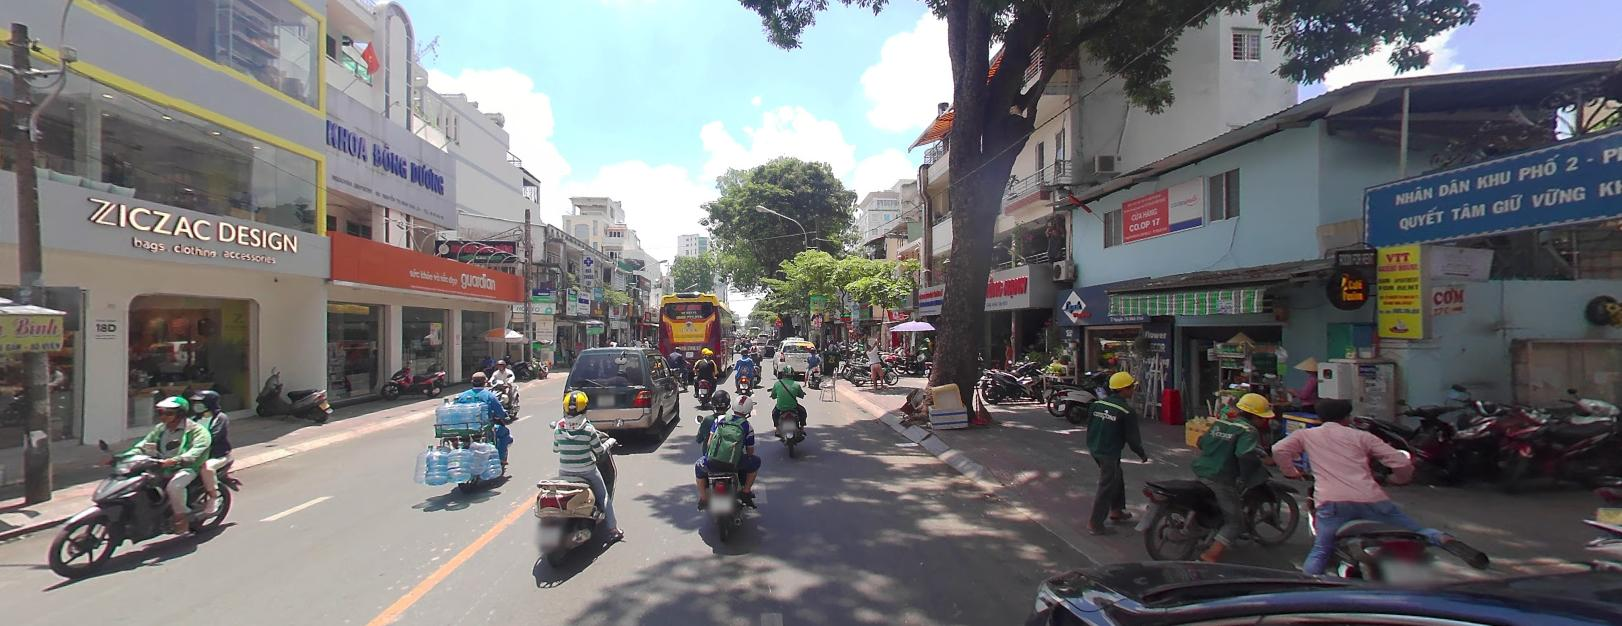Nguy hiem: (828, 356, 835, 362), (775, 314, 781, 319)
